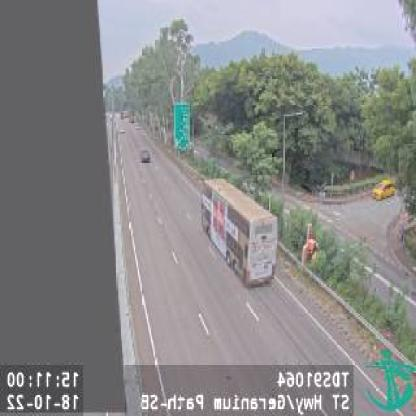Bus: (200, 180, 275, 284)
Car: (372, 178, 395, 200), (140, 147, 151, 161)
